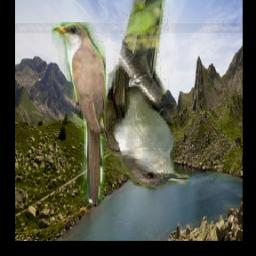Cuckoo: (104, 0, 190, 194), (52, 22, 107, 204)
